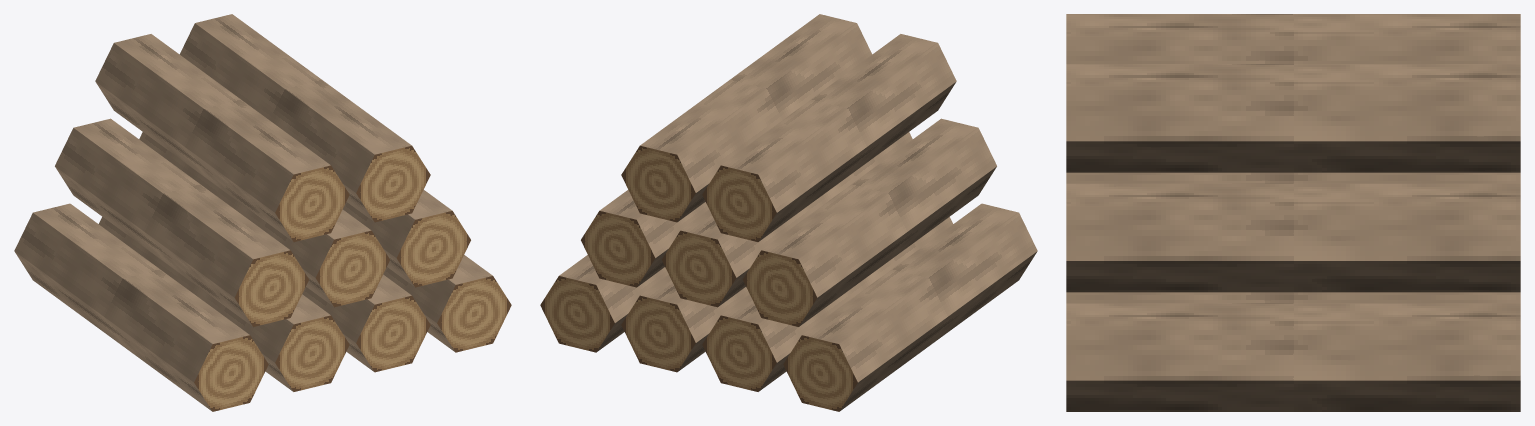
Rendered from woodPile.glb.
The picture shows the model from 3 angles, left to right: view 1: azimuth 30°, elevation 25°; view 2: azimuth 150°, elevation 25°; view 3: azimuth 270°, elevation 25°; orthographic projection. The views are drawn at different scales.
Visible parts, largest first — view 1: woodPile; view 2: woodPile; view 3: woodPile.
Part boxes in pixels (box(x1,y1,x2,y2)): woodPile: box(14, 14, 511, 411); woodPile: box(540, 14, 1037, 411); woodPile: box(1066, 14, 1520, 411).
Size of the model in its own units: 1.02 by 0.6678 by 1.
2 materials, 2 textured.
